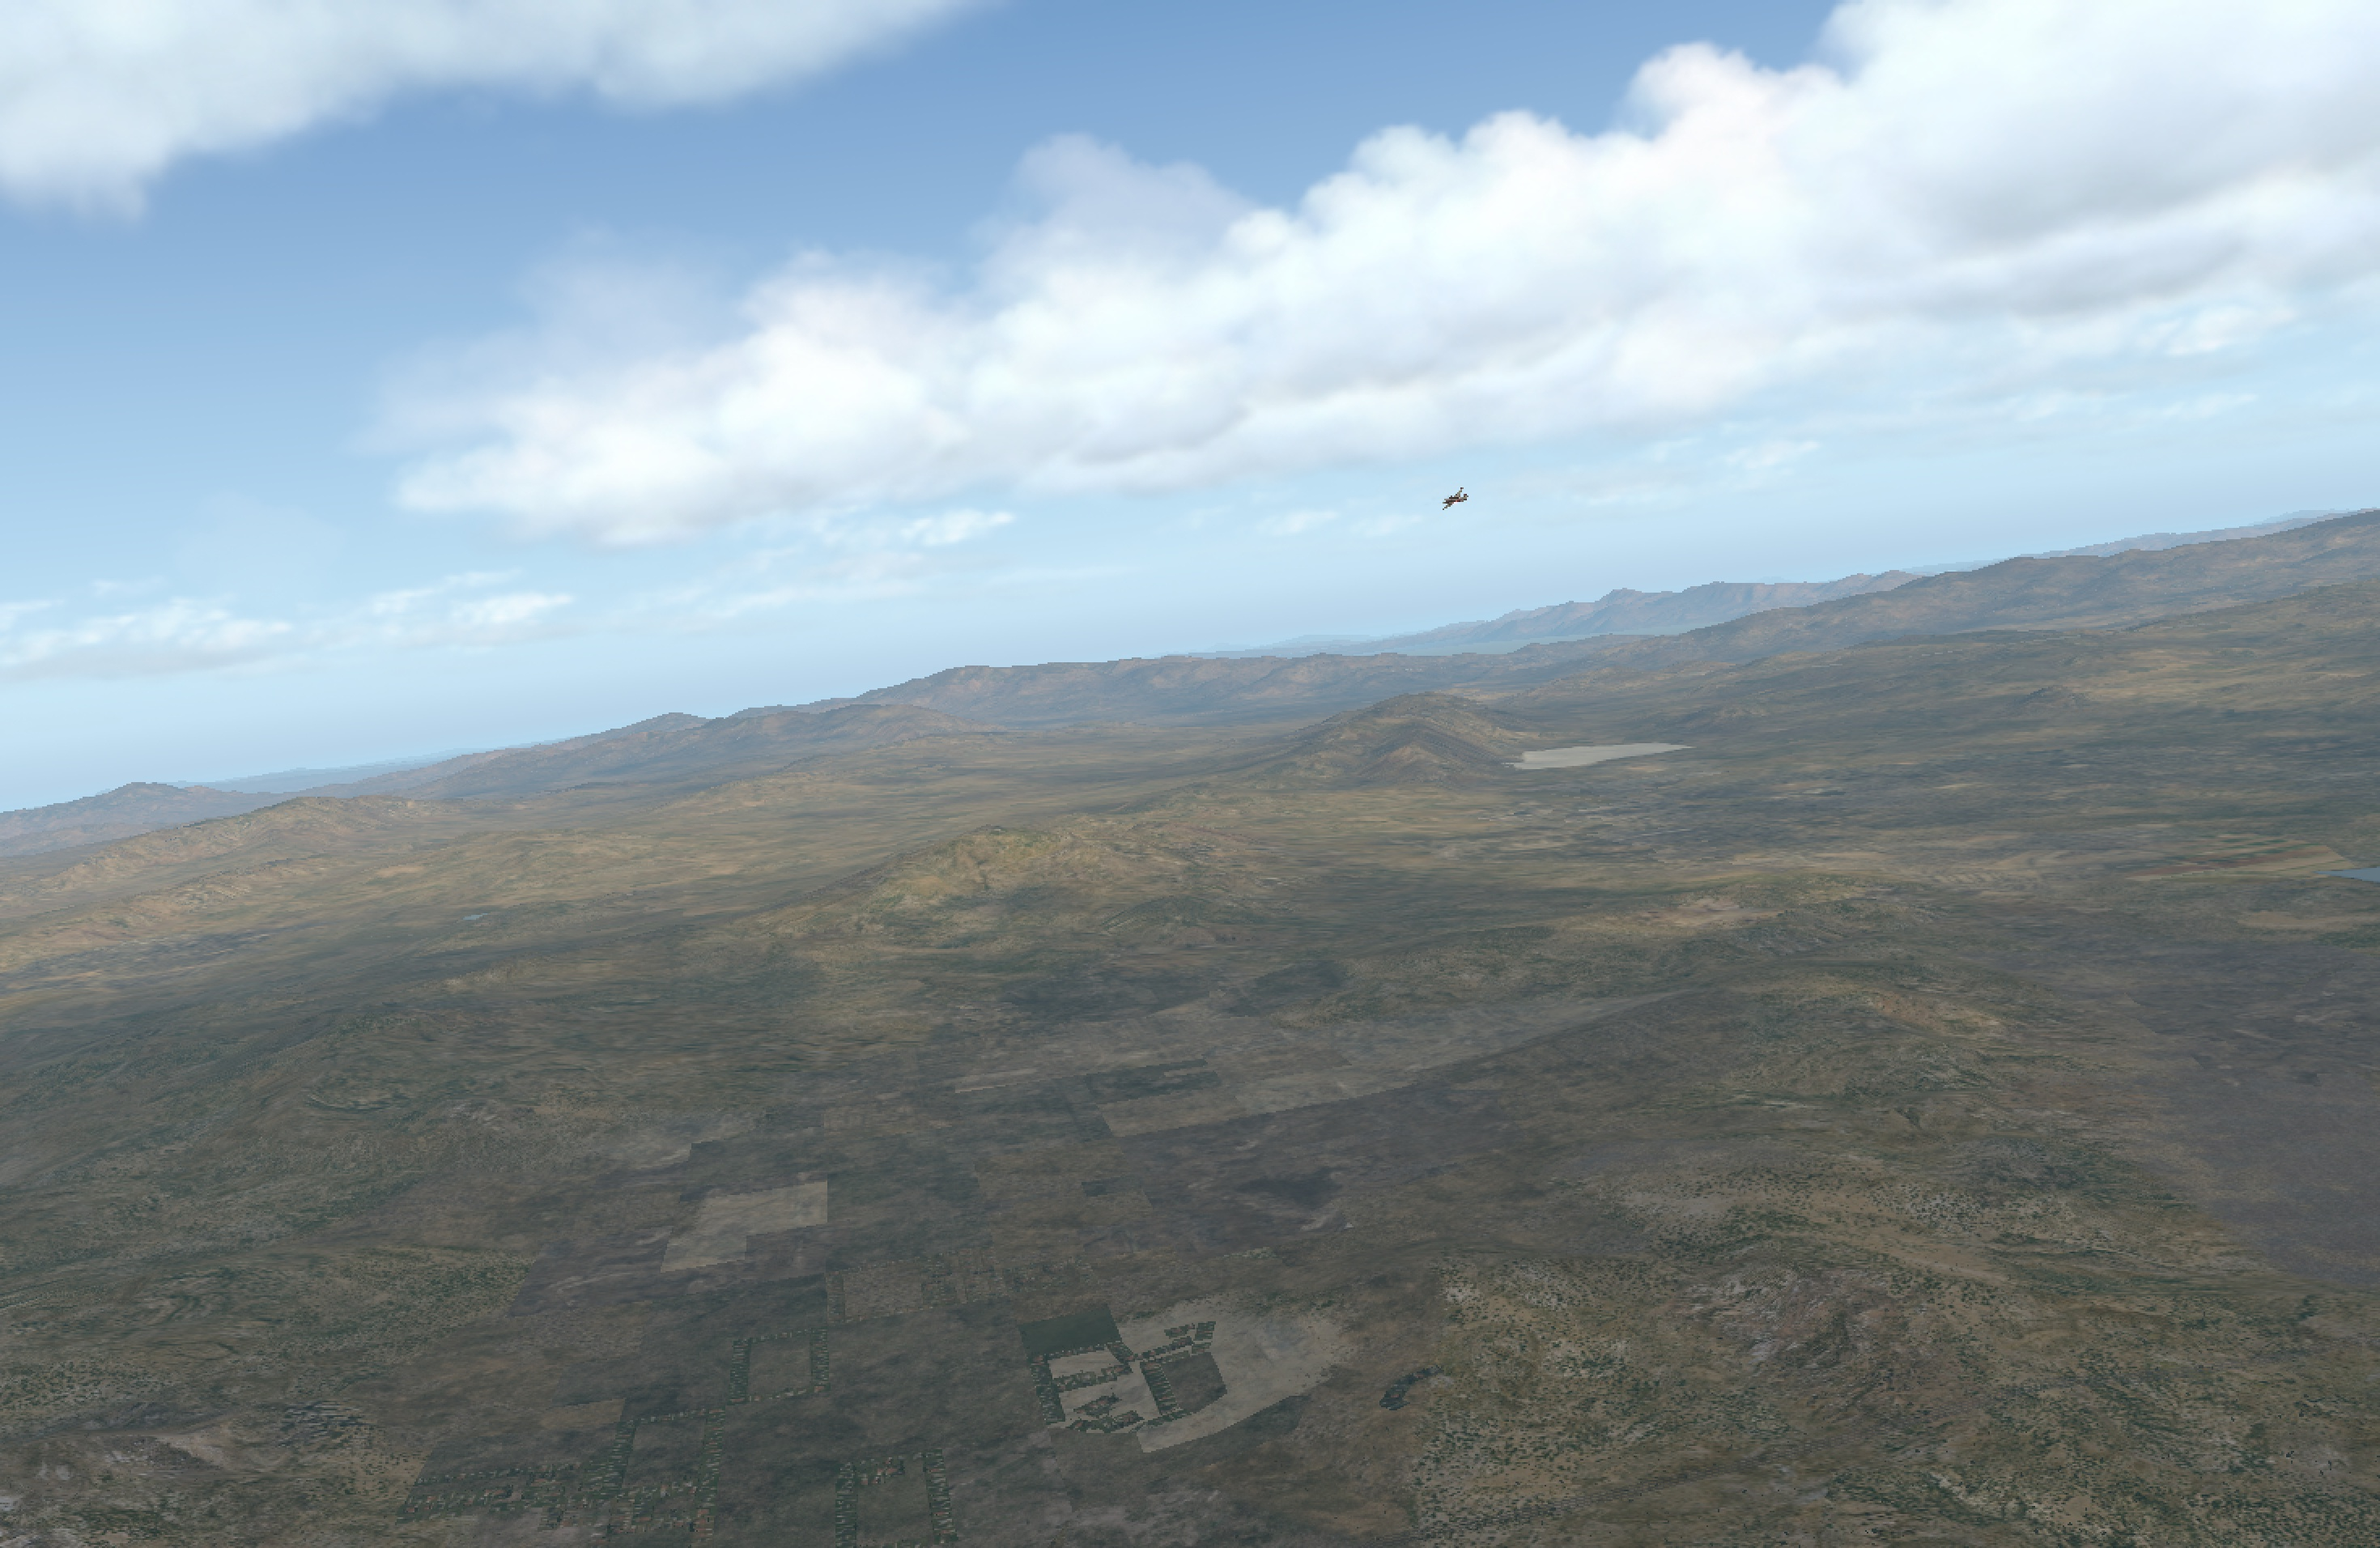aircraft: (1431, 493, 1473, 508)
